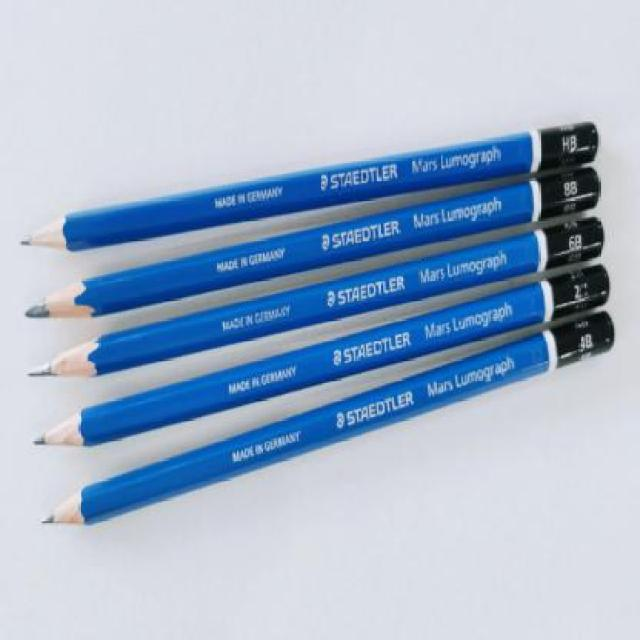pencil: (36, 305, 619, 532), (30, 259, 612, 452), (23, 211, 608, 383), (21, 161, 603, 322), (16, 117, 601, 257)
